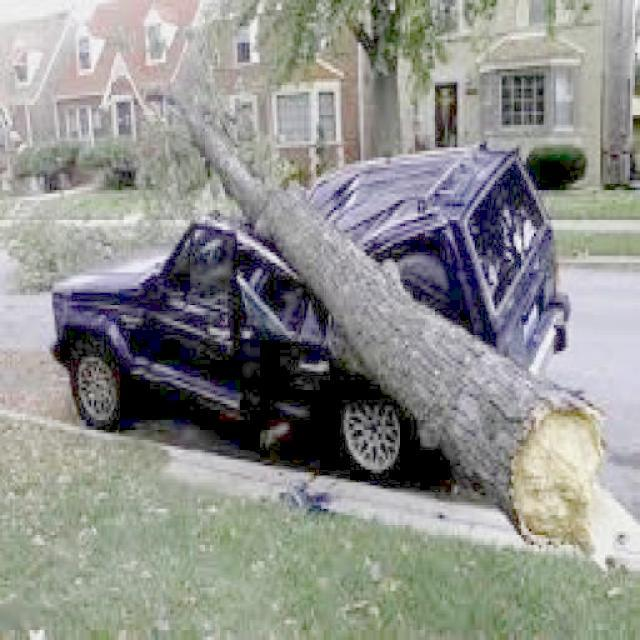car damage: (155, 155, 387, 438)
